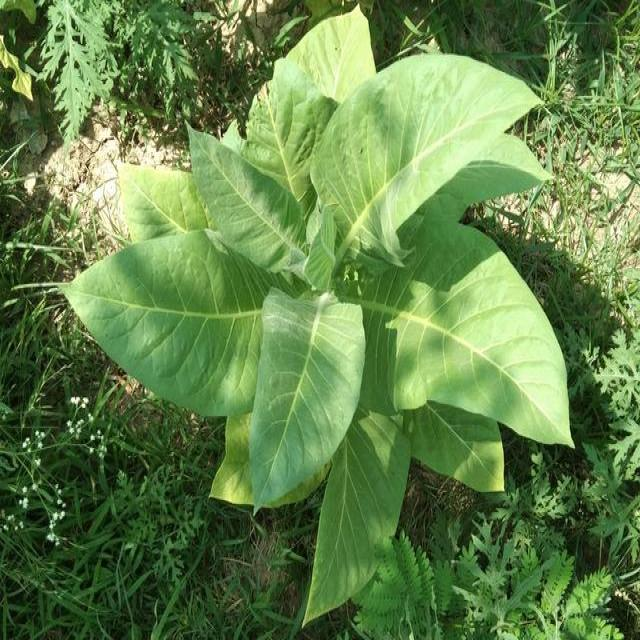crop: (90, 36, 568, 601)
